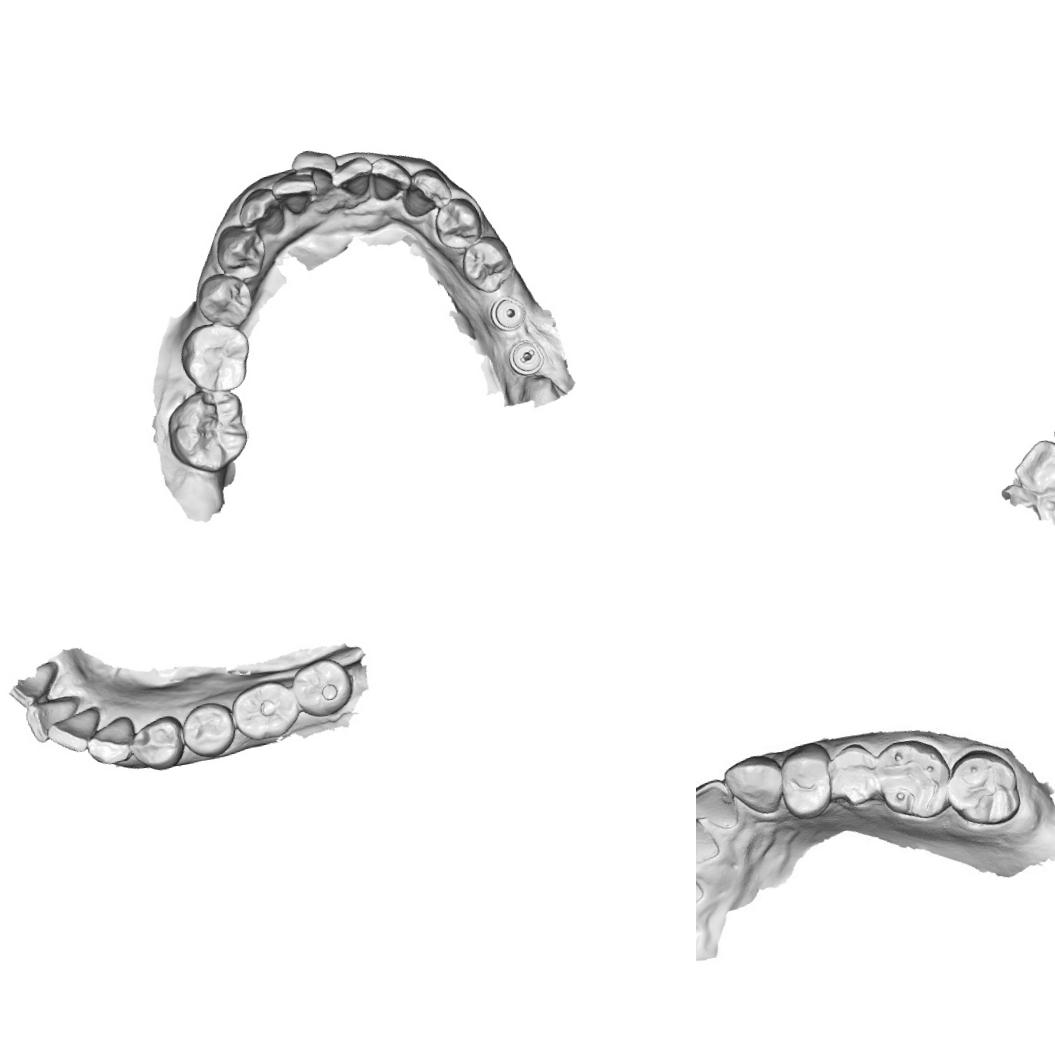canine: (722, 752, 787, 826), (83, 714, 142, 769), (398, 164, 454, 220), (234, 184, 288, 240)
implant: (486, 292, 529, 334)
implant_minus: (504, 334, 547, 378)
incisor: (43, 704, 106, 761), (696, 778, 747, 841), (24, 693, 84, 746), (288, 144, 342, 200), (1009, 435, 1055, 499), (268, 168, 321, 218), (327, 154, 376, 201), (369, 152, 415, 202), (696, 810, 722, 874)
molar: (161, 383, 256, 479), (940, 734, 1024, 834), (872, 734, 952, 824), (174, 317, 256, 398), (288, 653, 359, 722), (229, 678, 299, 746)
premolar: (775, 748, 839, 818), (822, 740, 884, 807), (192, 268, 256, 332), (177, 697, 241, 761), (457, 230, 518, 297), (210, 219, 270, 284), (430, 192, 486, 256), (131, 714, 190, 773)
